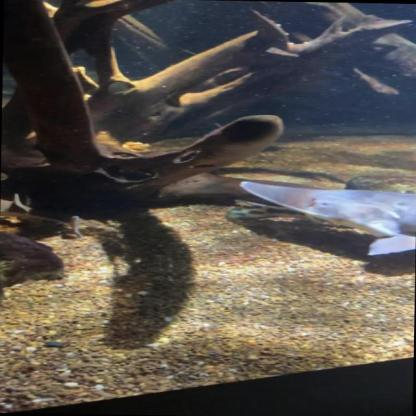shark: (236, 178, 416, 258)
